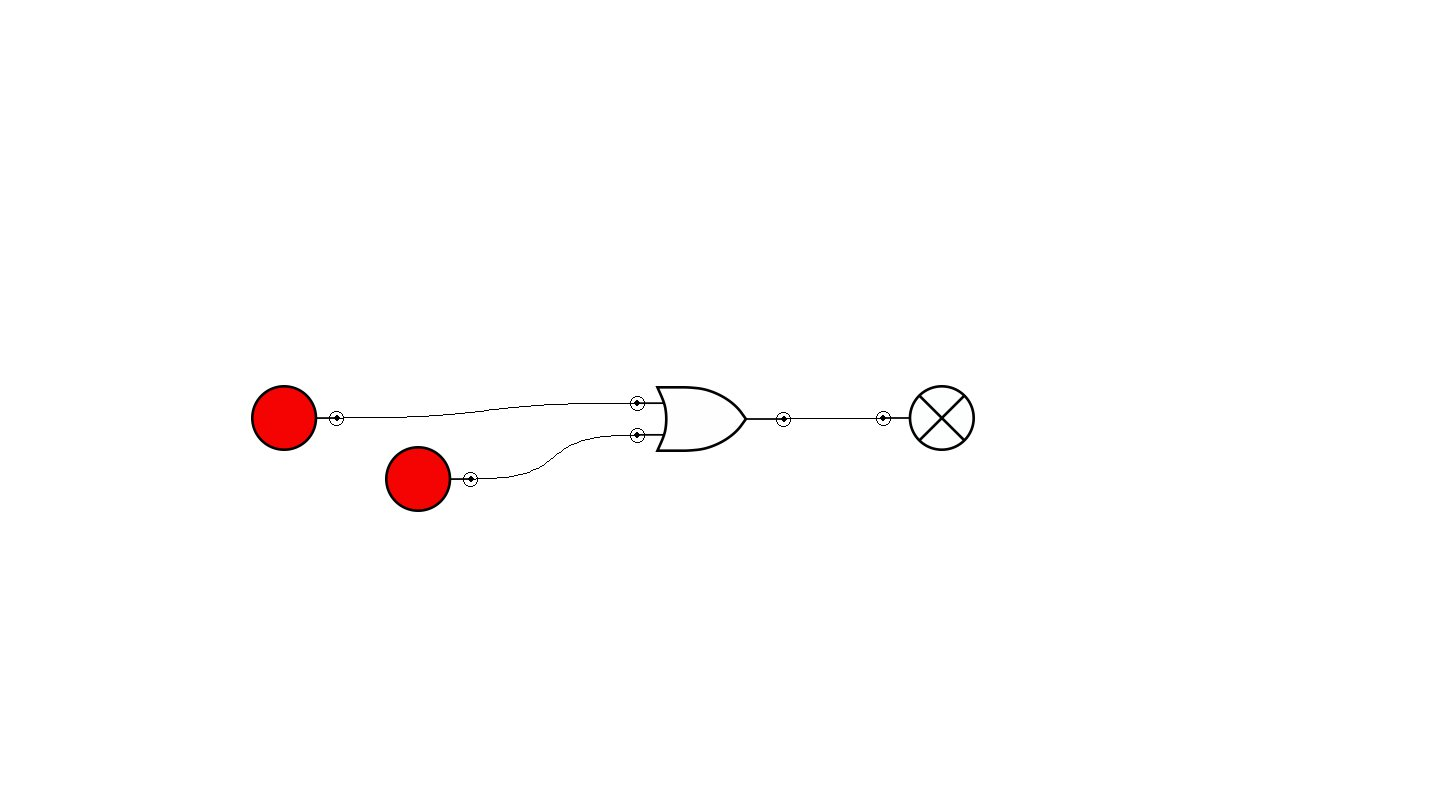bulb: (876, 385, 975, 451)
or: (630, 386, 791, 452)
switch_False: (385, 446, 478, 512), (251, 385, 344, 451)
